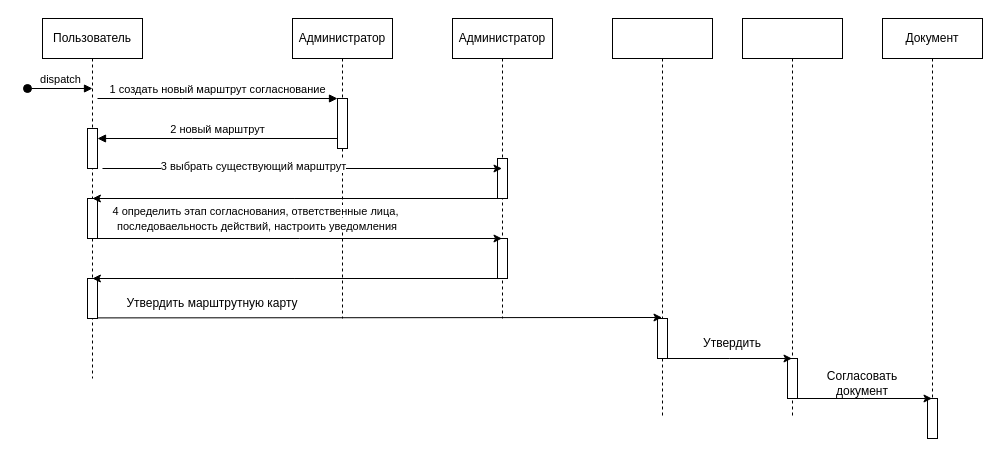
The diagram is 1000 pixels wide and 456 high, and some of its shapes have lost their labels. The shapes that lost their labels are listed below. From the top down, each one's box as (x1, y1, x2, y2) in pixels, then its label:
(612, 18, 712, 418): Марштрутная карта
(742, 18, 842, 418): Утвержденная марштрутная карта
